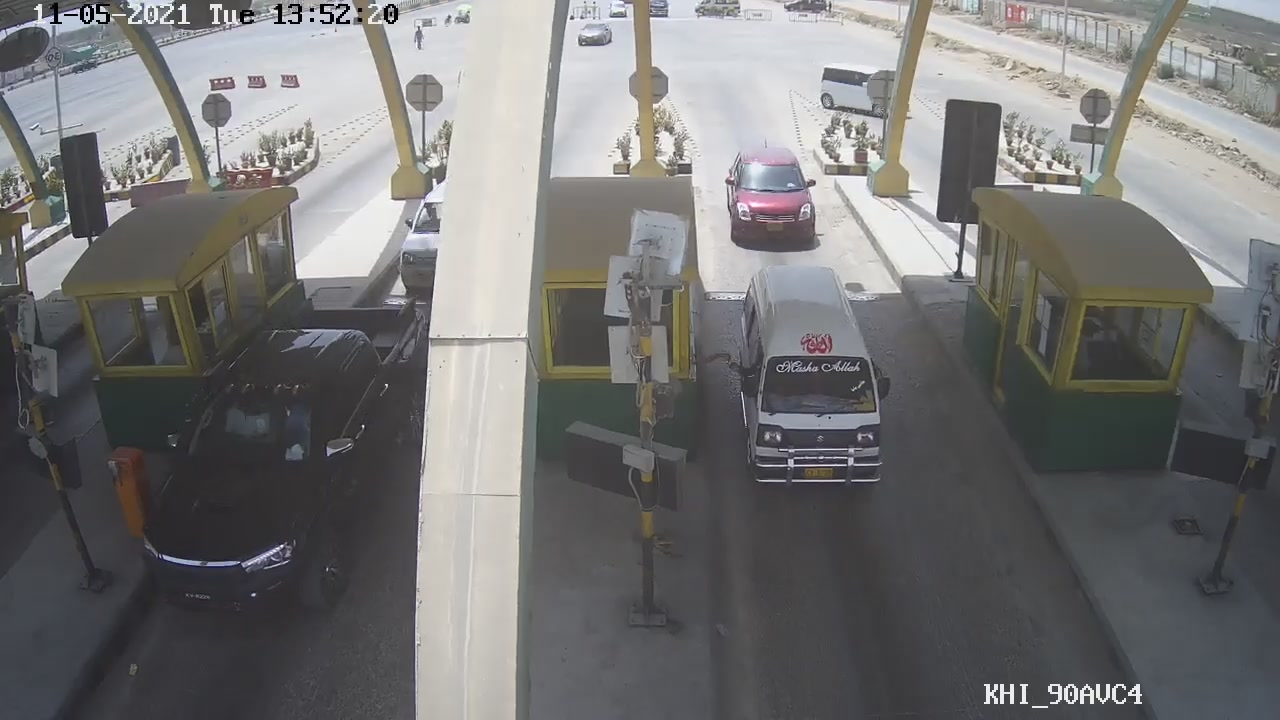F1: (731, 264, 899, 504), (723, 134, 824, 259)
